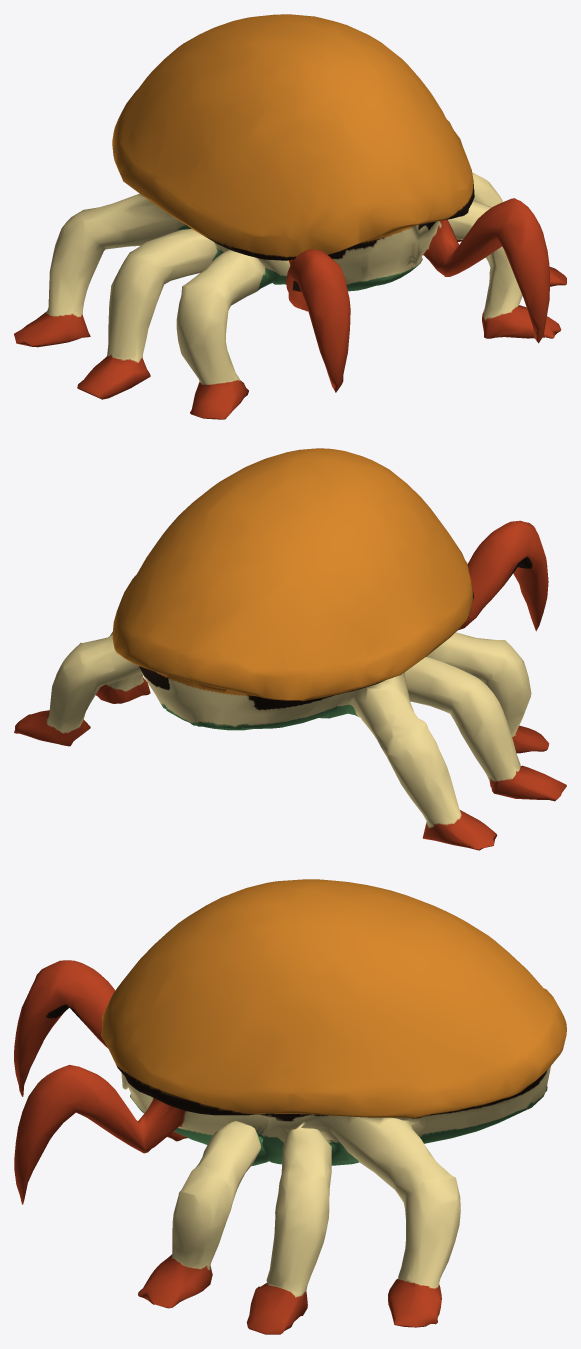
The model's file is shellback.glb.
3 renders of one model, top to bottom at view 1: azimuth 30°, elevation 25°; view 2: azimuth 150°, elevation 25°; view 3: azimuth 270°, elevation 25°, orthographic. The views are drawn at different scales.
Visible parts, largest first — view 1: shellback; view 2: shellback; view 3: shellback.
Part boxes in pixels (x1,y1,x2,y2): shellback: [14, 14, 566, 419]; shellback: [14, 448, 566, 850]; shellback: [14, 879, 566, 1334].
Bounding box in the file's own units: 2.71 × 1.55 × 2.47.
1 material, 1 textured.
